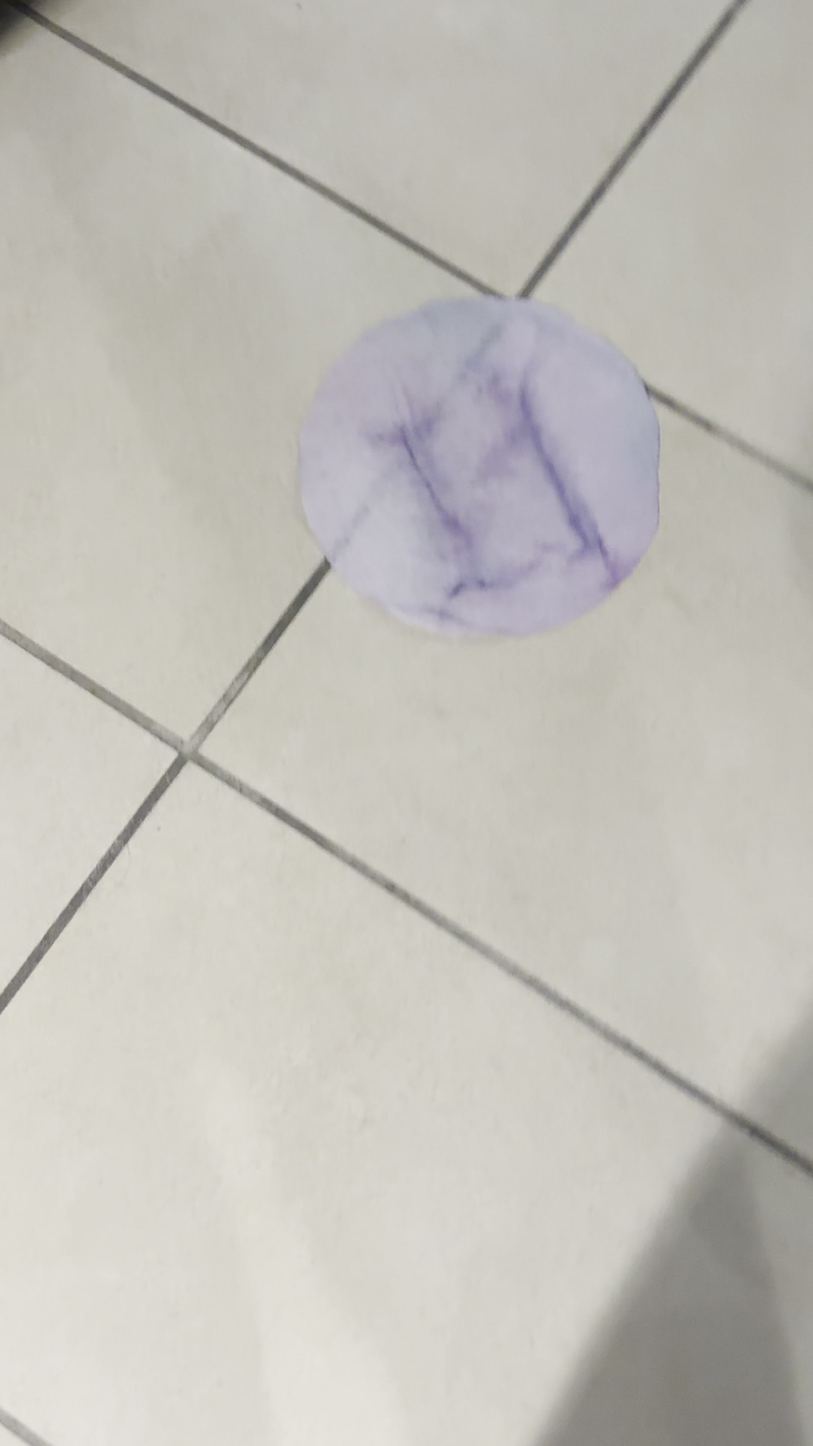Target: (293, 298, 658, 640)
